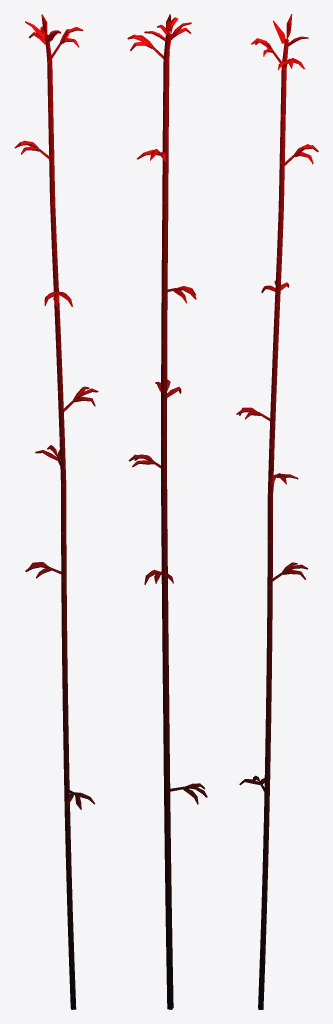
File: TreeBambooTall06.fbx
3 renders of one model, left to right at view 1: azimuth 90°, elevation 25°; view 2: azimuth 150°, elevation 25°; view 3: azimuth 270°, elevation 25°, orthographic. The views are drawn at different scales.
Visible parts, largest first — view 1: TreeBambooTall06_LOD0; view 2: TreeBambooTall06_LOD0; view 3: TreeBambooTall06_LOD0.
Part boxes in pixels (box(x1,y1,x2,y2)): TreeBambooTall06_LOD0: box(14, 14, 98, 1009); TreeBambooTall06_LOD0: box(127, 14, 207, 1009); TreeBambooTall06_LOD0: box(236, 14, 318, 1009).
Size of what is drawn, in the model's own units: 87.92 by 1312 by 99.82.
